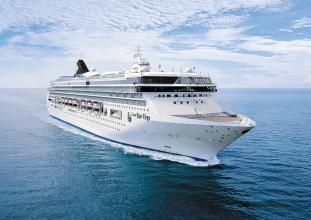youlun: (46, 50, 259, 162)
